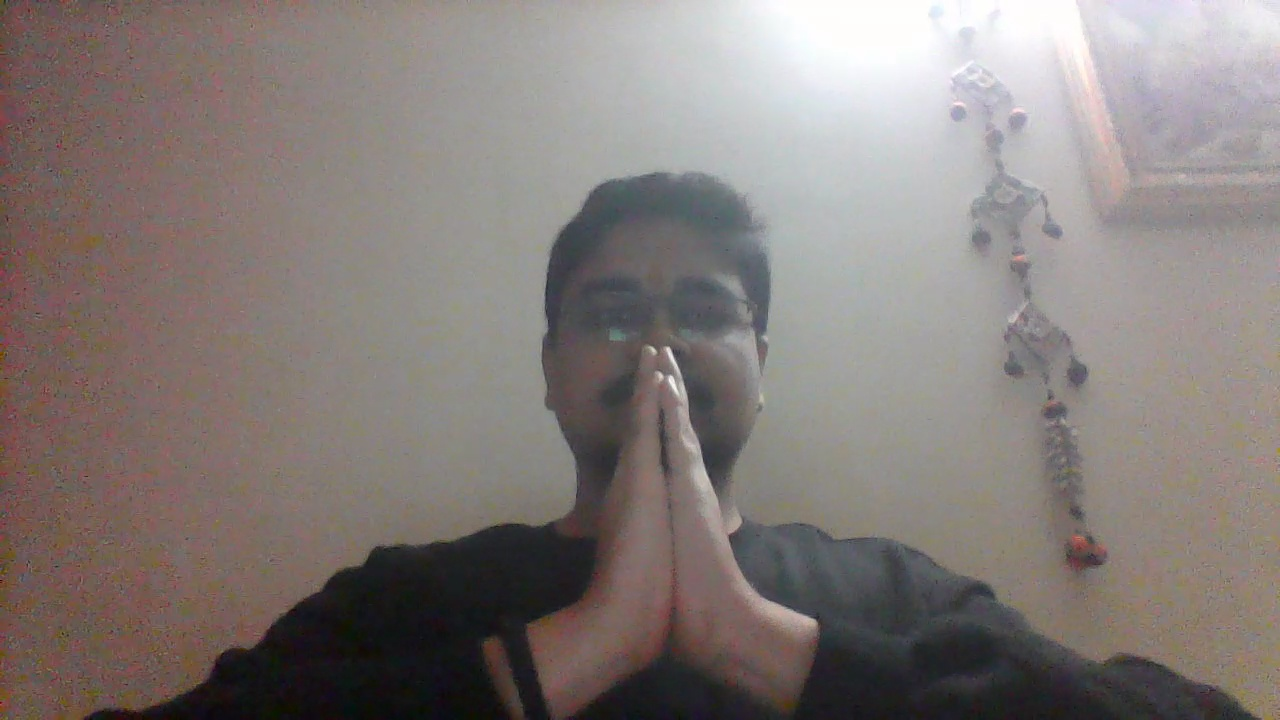Namaste: (540, 345, 800, 699)
